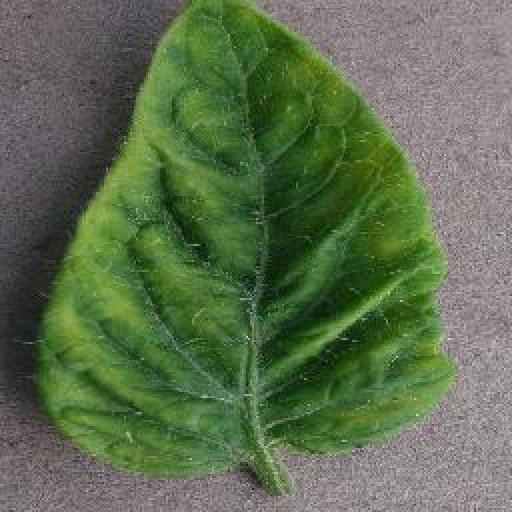Yellow Leaf Curl Virus: (32, 0, 453, 477)
